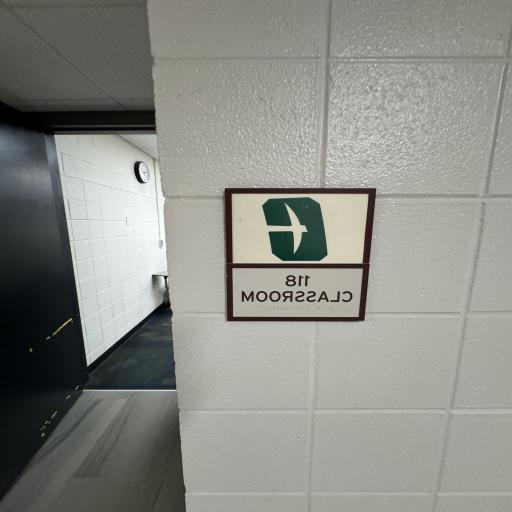room 118 sign: (220, 183, 382, 329)
